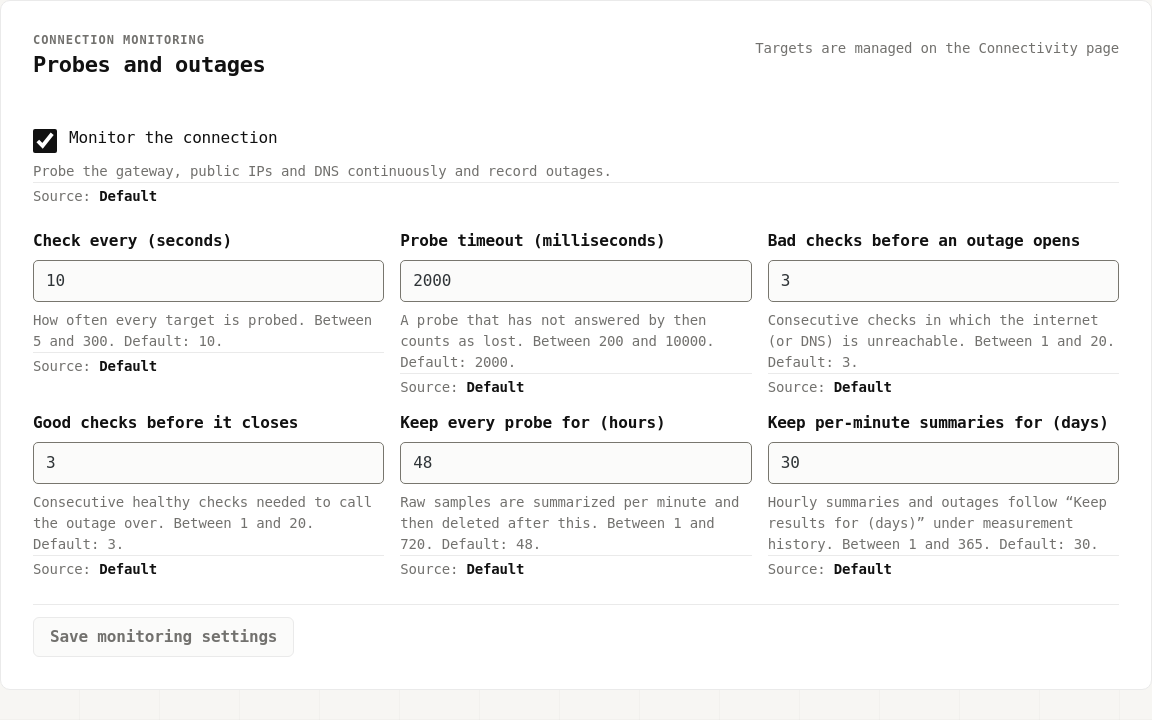
Test: connection monitoring settings › refuses out-of-range values before saving
Replace the text in the number field labelled "Check every" with "1" at (209, 281), box [33, 260, 384, 302]
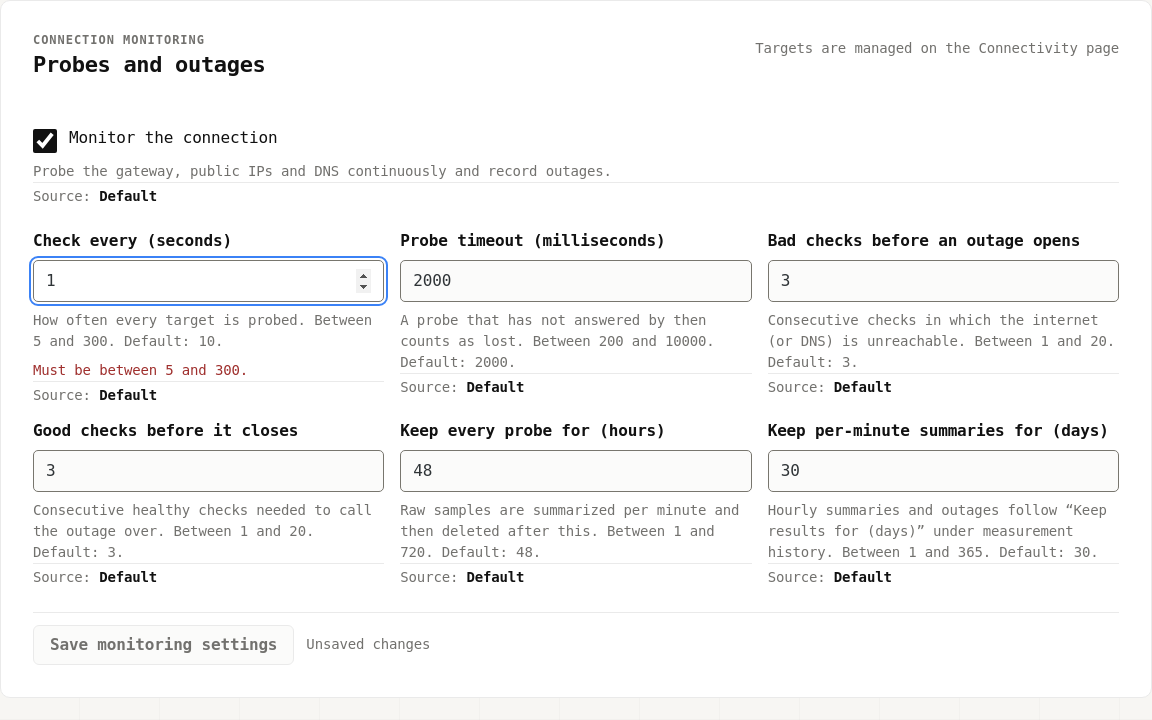
Expected: the button "Save monitoring settings" is disabled, [33, 625, 294, 665]
Now the text "Must be between 5 and 300." is shown, box [33, 362, 248, 378]
